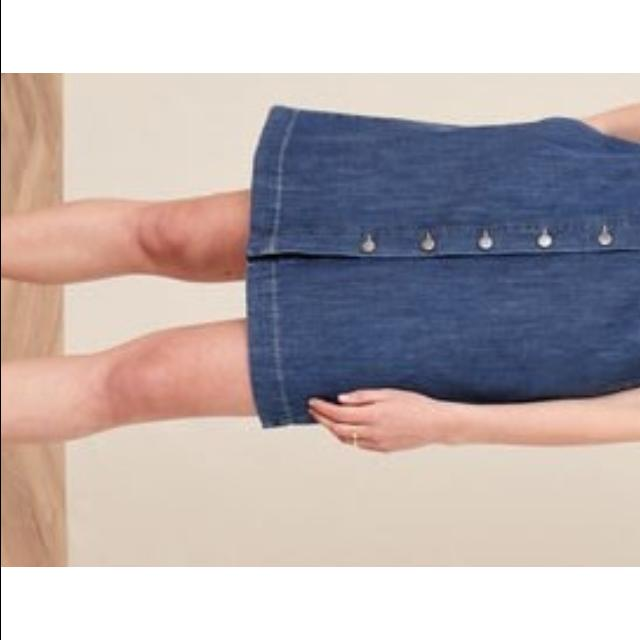denim: (262, 99, 640, 437)
